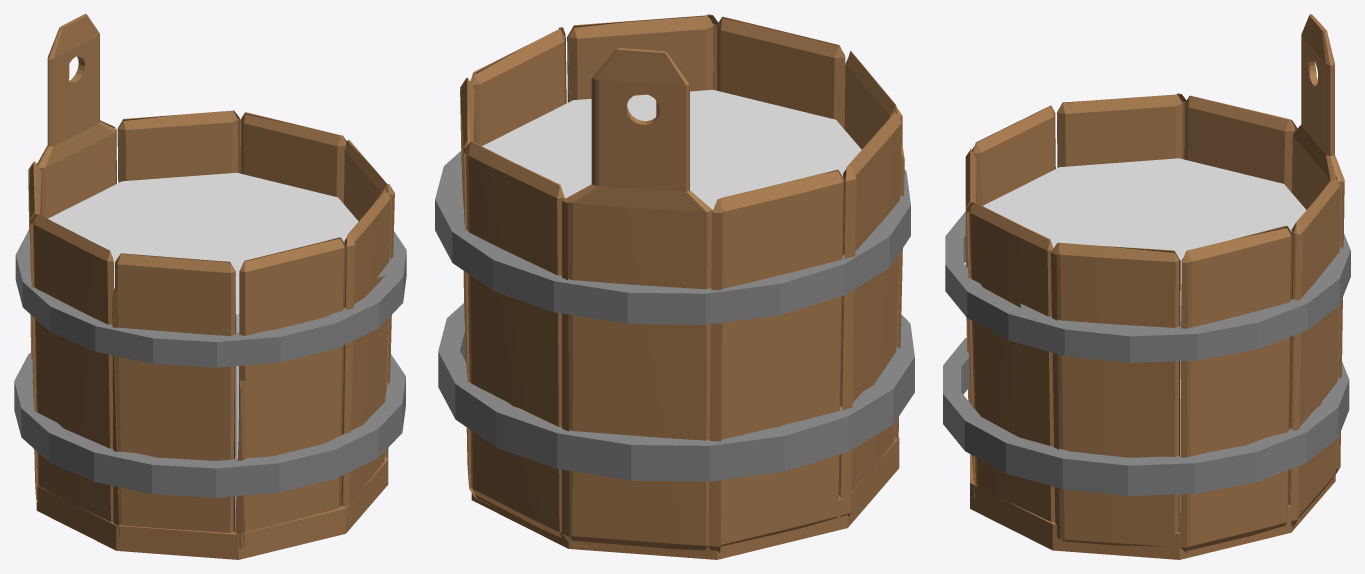
Rendered from Bucket wtih water.fbx.
3 views of the same model, side by side, from view 1: azimuth 30°, elevation 25°; view 2: azimuth 150°, elevation 25°; view 3: azimuth 270°, elevation 25° (orthographic). The views are drawn at different scales.
Parts seen in each view (by area): view 1: Bucket main.001, Cylinder.010, Bucket rope bottom.001, Bucket rope upper.001, Bucket bottom.001; view 2: Bucket main.001, Bucket rope bottom.001, Bucket rope upper.001, Cylinder.010, Bucket bottom.001; view 3: Bucket main.001, Cylinder.010, Bucket rope bottom.001, Bucket rope upper.001, Bucket bottom.001.
Part boxes in pixels (left/top/right/bottom): Bucket main.001: left=28, top=14, right=394, bottom=549; Cylinder.010: left=48, top=172, right=358, bottom=526; Bucket rope bottom.001: left=14, top=352, right=405, bottom=497; Bucket rope upper.001: left=15, top=230, right=406, bottom=367; Bucket bottom.001: left=36, top=457, right=388, bottom=559; Bucket main.001: left=460, top=14, right=904, bottom=552; Bucket rope bottom.001: left=438, top=303, right=914, bottom=481; Bucket rope upper.001: left=435, top=151, right=910, bottom=324; Cylinder.010: left=482, top=89, right=861, bottom=210; Bucket bottom.001: left=471, top=437, right=899, bottom=559; Bucket main.001: left=965, top=14, right=1344, bottom=552; Cylinder.010: left=983, top=158, right=1306, bottom=526; Bucket rope bottom.001: left=943, top=337, right=1349, bottom=495; Bucket rope upper.001: left=945, top=211, right=1350, bottom=362; Bucket bottom.001: left=970, top=454, right=1335, bottom=559.
Bounding box in the file's own units: 124 × 144 × 123.
